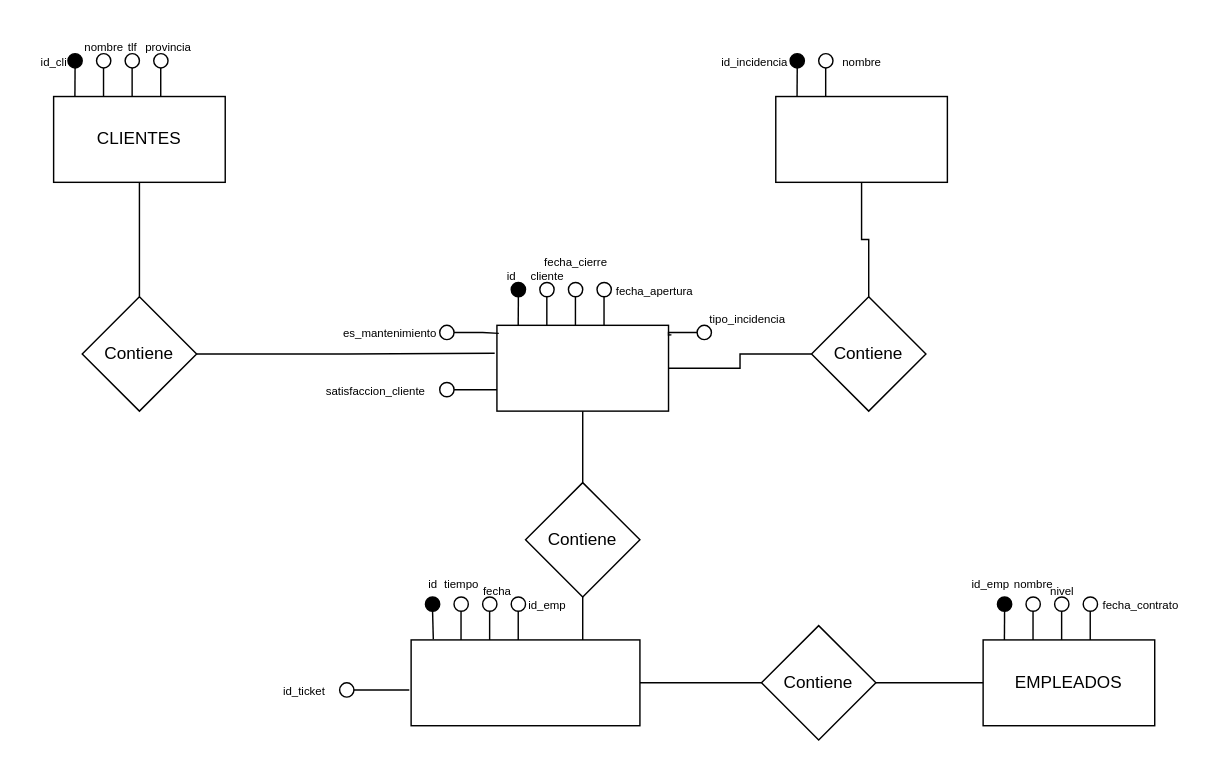
The diagram is 1221 pixels wide and 765 high, and some of its shapes have lost their labels. The centre of each missing label's shape, as x and y in pixels:
"CONTACTO_EMPLEADO" belongs at point (525, 682).
"TICKETS_EMITIDOS" belongs at point (582, 367).
"TIPOS_INCIDENCIA" belongs at point (860, 138).
